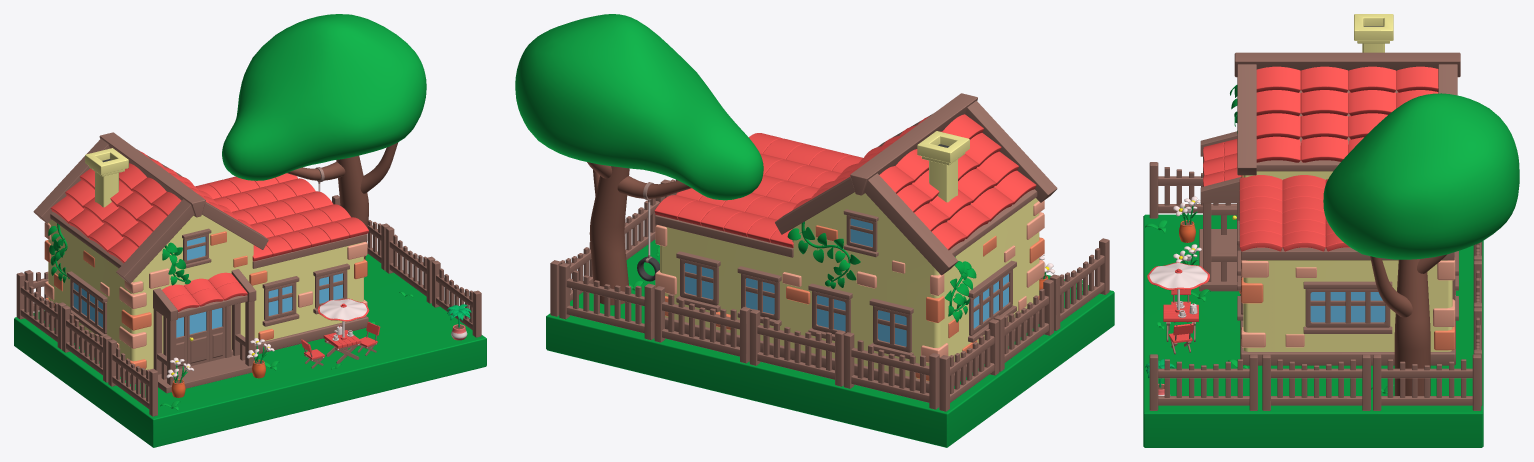
File: Town_Island_13.glb
3 renders of one model, left to right at view 1: azimuth 30°, elevation 25°; view 2: azimuth 150°, elevation 25°; view 3: azimuth 270°, elevation 25°, orthographic. The views are drawn at different scales.
Visible parts, largest first — view 1: Town_13_House_1, Town_13_Tree_1, Town_13_Base_1, Town_13_Fence_1, Town_13_Fence_5, Town_13_Fence_2, Town_13_Fence_3, Town_13_Fence_4, Town_13_Umbrella_1, Town_13_Fence_6, Town_13_Table_1, Town_13_Ivy_1 (+4 smaller); view 2: Town_13_House_1, Town_13_Tree_1, Town_13_Base_1, Town_13_Fence_10, Town_13_Fence_7, Town_13_Fence_8, Town_13_Fence_9, Town_13_Fence_3, Town_13_Fence_1, Town_13_Fence_2, Town_13_Ivy_3, Town_13_Fence_5 (+3 smaller); view 3: Town_13_House_1, Town_13_Tree_1, Town_13_Base_1, Town_13_Fence_6, Town_13_Fence_4, Town_13_Fence_5, Town_13_Fence_1, Town_13_Umbrella_1, Town_13_Flower_1, Town_13_Table_1, Town_13_Fence_7, Town_13_Chair_1 (+1 smaller).
Part boxes in pixels (left/top/right/bottom): Town_13_House_1: left=33, top=132, right=368, bottom=393; Town_13_Tree_1: left=222, top=14, right=426, bottom=259; Town_13_Base_1: left=14, top=254, right=486, bottom=447; Town_13_Fence_1: left=108, top=339, right=157, bottom=416; Town_13_Fence_5: left=385, top=226, right=435, bottom=303; Town_13_Fence_2: left=62, top=305, right=111, bottom=382; Town_13_Fence_3: left=16, top=272, right=66, bottom=349; Town_13_Fence_4: left=432, top=260, right=481, bottom=337; Town_13_Umbrella_1: left=318, top=298, right=369, bottom=339; Town_13_Fence_6: left=366, top=220, right=389, bottom=270; Town_13_Table_1: left=323, top=330, right=361, bottom=363; Town_13_Ivy_1: left=48, top=223, right=69, bottom=282; Town_13_House_1: left=654, top=93, right=1057, bottom=392; Town_13_Tree_1: left=515, top=14, right=763, bottom=305; Town_13_Base_1: left=546, top=240, right=1114, bottom=447; Town_13_Fence_10: left=843, top=332, right=939, bottom=409; Town_13_Fence_7: left=559, top=262, right=655, bottom=340; Town_13_Fence_8: left=654, top=286, right=750, bottom=363; Town_13_Fence_9: left=749, top=309, right=845, bottom=386; Town_13_Fence_3: left=939, top=319, right=999, bottom=411; Town_13_Fence_1: left=1049, top=238, right=1109, bottom=330; Town_13_Fence_2: left=994, top=279, right=1053, bottom=371; Town_13_Ivy_3: left=787, top=221, right=860, bottom=288; Town_13_Fence_5: left=624, top=196, right=664, bottom=259; Town_13_House_1: left=1199, top=14, right=1460, bottom=365; Town_13_Tree_1: left=1323, top=93, right=1519, bottom=395; Town_13_Base_1: left=1143, top=214, right=1483, bottom=447; Town_13_Fence_6: left=1373, top=354, right=1481, bottom=410; Town_13_Fence_4: left=1149, top=354, right=1257, bottom=410; Town_13_Fence_5: left=1262, top=354, right=1370, bottom=410; Town_13_Fence_1: left=1149, top=162, right=1236, bottom=218; Town_13_Umbrella_1: left=1147, top=262, right=1209, bottom=312; Town_13_Flower_1: left=1173, top=196, right=1200, bottom=242; Town_13_Table_1: left=1163, top=304, right=1198, bottom=341; Town_13_Fence_7: left=1473, top=307, right=1482, bottom=405; Town_13_Chair_1: left=1168, top=323, right=1193, bottom=354.
Bounding box in the file's own units: 15.41 × 10.51 × 10.97.
35 materials, 35 textured.
